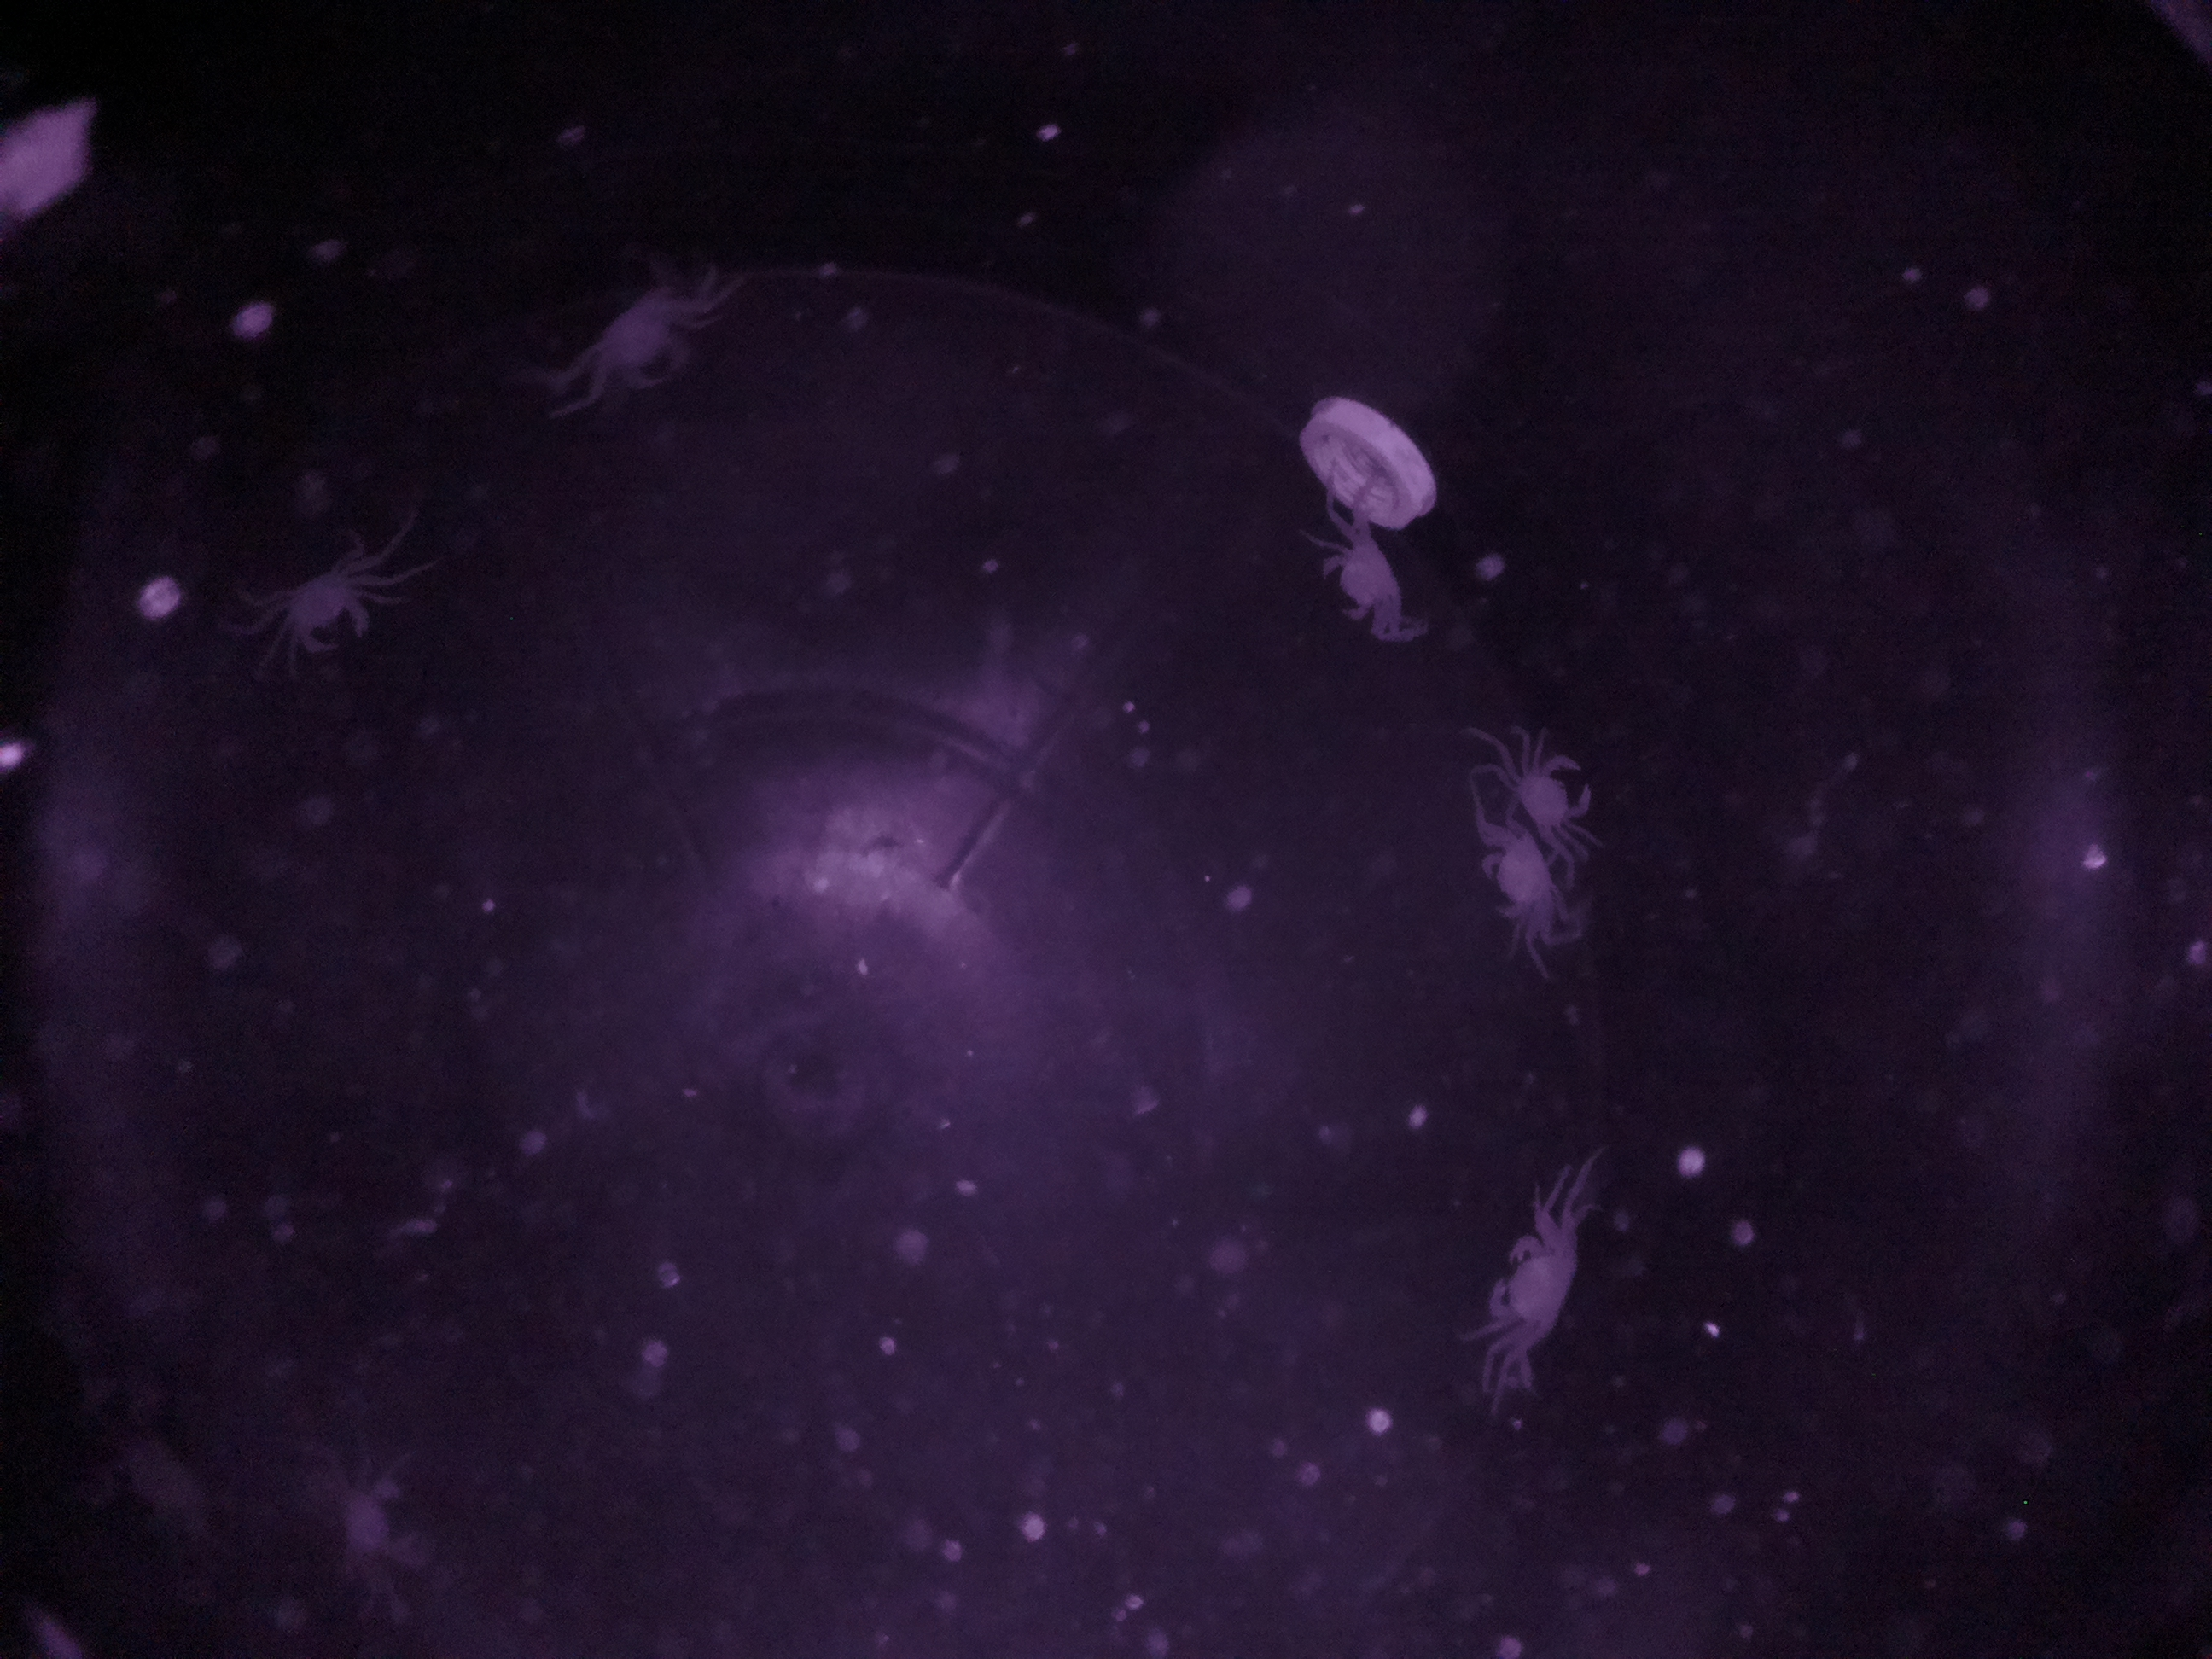Crab: (568, 263, 718, 413), (1463, 1211, 1590, 1370), (268, 523, 394, 680), (1470, 816, 1580, 943), (1308, 523, 1411, 647), (1501, 735, 1616, 843)
